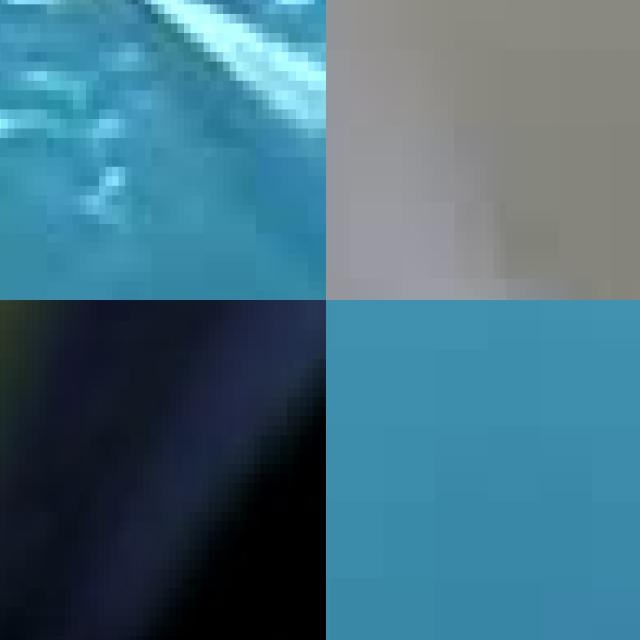fish: (0, 300, 326, 640), (0, 0, 326, 300), (326, 116, 640, 300)
